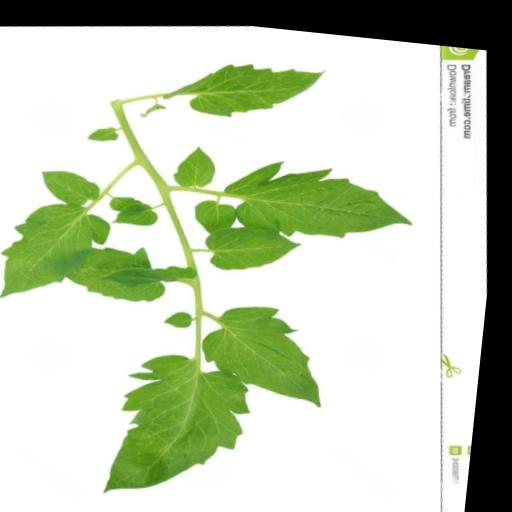Healthy: (97, 335, 271, 503), (218, 135, 423, 247), (197, 289, 338, 413), (157, 41, 330, 128), (0, 192, 123, 307), (67, 234, 175, 308), (205, 211, 309, 274), (102, 251, 205, 291), (41, 161, 105, 208), (171, 138, 222, 187), (194, 191, 243, 231), (114, 195, 164, 228)
